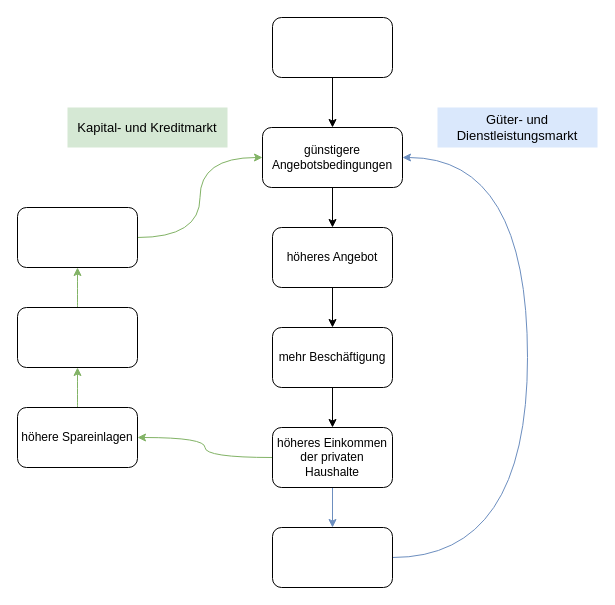
The diagram is 615 pixels wide and 605 high, and some of its shapes have lost their labels. The shapes that lost their labels are listed below. From the top down, each one's centre as x and y in pixels, then its label:
point 332,47: neue staatliche Regelungen
point 77,237: mehr Investitionen
point 77,337: mehr Angebot auf dem Kapitalmarkt
point 332,557: mehr Nachfrage d. priv. Haushalte
